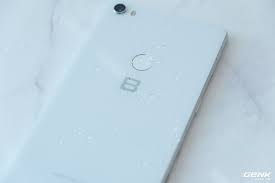bphone: (14, 1, 229, 183)
